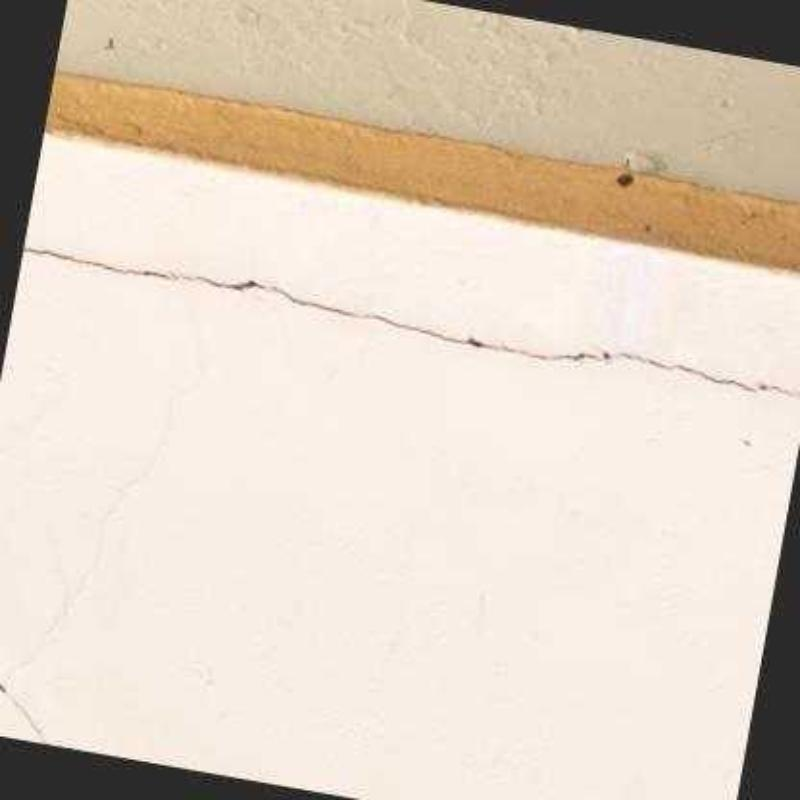crack: (166, 269, 800, 395), (20, 246, 167, 277), (0, 685, 49, 744)
